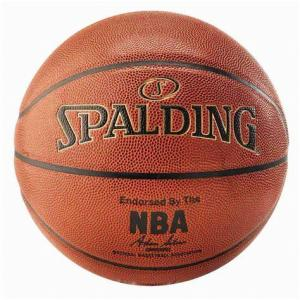Basket: (13, 10, 289, 285)
